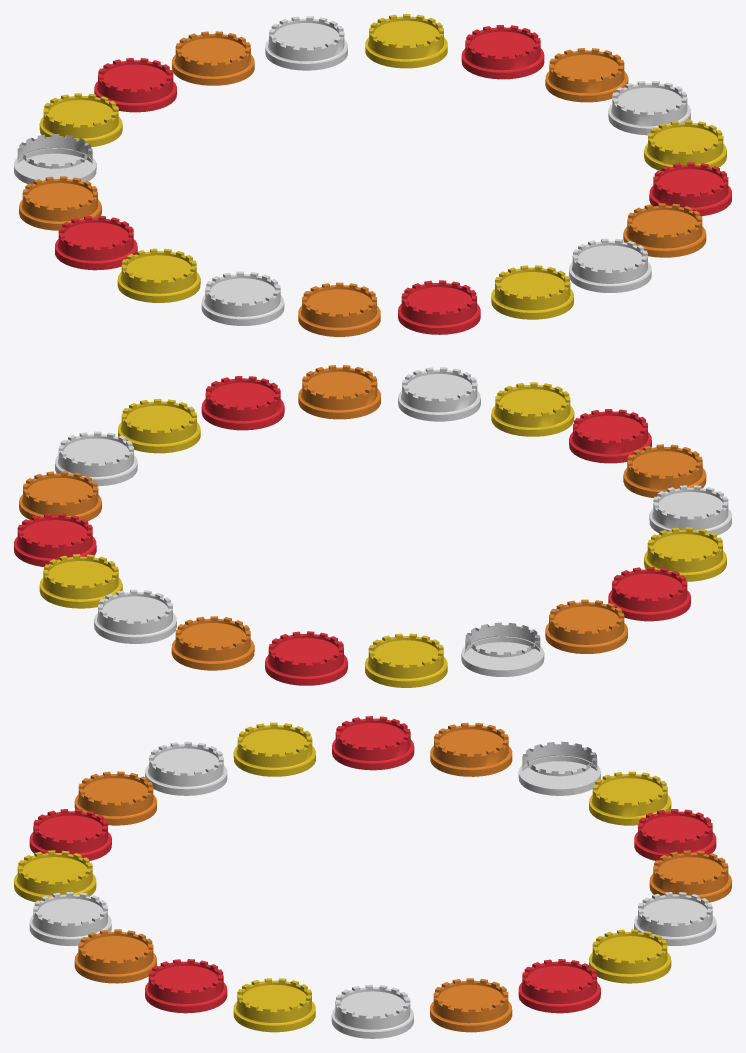
The picture shows the model from 3 angles, top to bottom: view 1: azimuth 30°, elevation 25°; view 2: azimuth 150°, elevation 25°; view 3: azimuth 270°, elevation 25°; orthographic projection.
Visible parts, largest first — view 1: Cylinder.003, Cylinder.013, Cylinder.015, Cylinder.002, Cylinder.005, Cylinder.006, Cylinder.016, Cylinder.007, Cylinder.014, Cylinder.004, Cylinder.012, Cylinder.001 (+8 smaller); view 2: Cylinder.009, Cylinder.016, Cylinder.006, Cylinder.008, Cylinder.017, Cylinder.019, Cylinder.007, Cylinder.020, Cylinder.018, Cylinder.015, Cylinder.010, Cylinder.001 (+8 smaller); view 3: Cylinder.002, Cylinder.010, Cylinder.011, Cylinder.001, Cylinder.009, Cylinder.012, Cylinder.013, Cylinder.020, Cylinder.008, Cylinder.014, Cylinder.003, Cylinder.019 (+8 smaller).
Boxes of the visible parts, box(x1,y1,x2,y2) form: Cylinder.003: box(201, 271, 284, 325); Cylinder.013: box(461, 25, 544, 79); Cylinder.015: box(265, 16, 347, 70); Cylinder.002: box(117, 248, 200, 302); Cylinder.005: box(398, 280, 480, 334); Cylinder.006: box(491, 265, 573, 319); Cylinder.016: box(172, 31, 254, 85); Cylinder.007: box(569, 238, 651, 292); Cylinder.014: box(365, 14, 447, 68); Cylinder.004: box(298, 282, 380, 336); Cylinder.012: box(545, 48, 628, 102); Cylinder.001: box(55, 215, 137, 270); Cylinder.009: box(201, 376, 284, 430); Cylinder.016: box(171, 616, 254, 670); Cylinder.006: box(491, 382, 574, 436); Cylinder.008: box(298, 365, 380, 419); Cylinder.017: box(265, 631, 347, 685); Cylinder.019: box(461, 622, 544, 676); Cylinder.007: box(398, 367, 480, 421); Cylinder.020: box(545, 599, 627, 653); Cylinder.018: box(365, 633, 447, 687); Cylinder.015: box(94, 589, 176, 643); Cylinder.010: box(118, 399, 200, 453); Cylinder.001: box(608, 566, 690, 621); Cylinder.002: box(233, 722, 315, 776); Cylinder.010: box(233, 978, 315, 1032); Cylinder.011: box(331, 984, 413, 1038); Cylinder.001: box(332, 716, 414, 770); Cylinder.009: box(145, 959, 227, 1013); Cylinder.012: box(430, 978, 512, 1032); Cylinder.013: box(518, 959, 600, 1013); Cylinder.020: box(430, 722, 512, 776); Cylinder.008: box(74, 929, 156, 983); Cylinder.014: box(589, 929, 671, 983); Cylinder.003: box(145, 741, 227, 795); Cylinder.019: box(518, 741, 600, 795).
Size of what is drawn, in the model's own units: 48.15 by 1.55 by 48.15.
